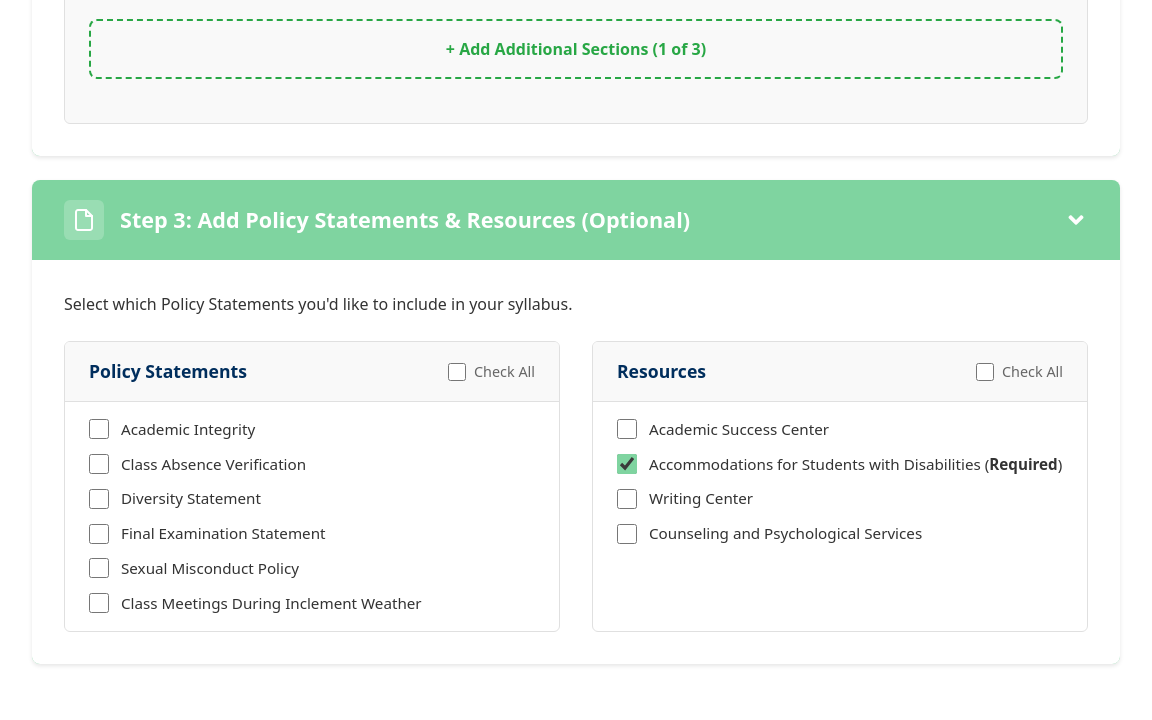
it: Checklist › Check All selects every policy statement
(page scrolled)
Click the checkbox named "Check all policy statements": [457, 372] box [448,362,466,380]
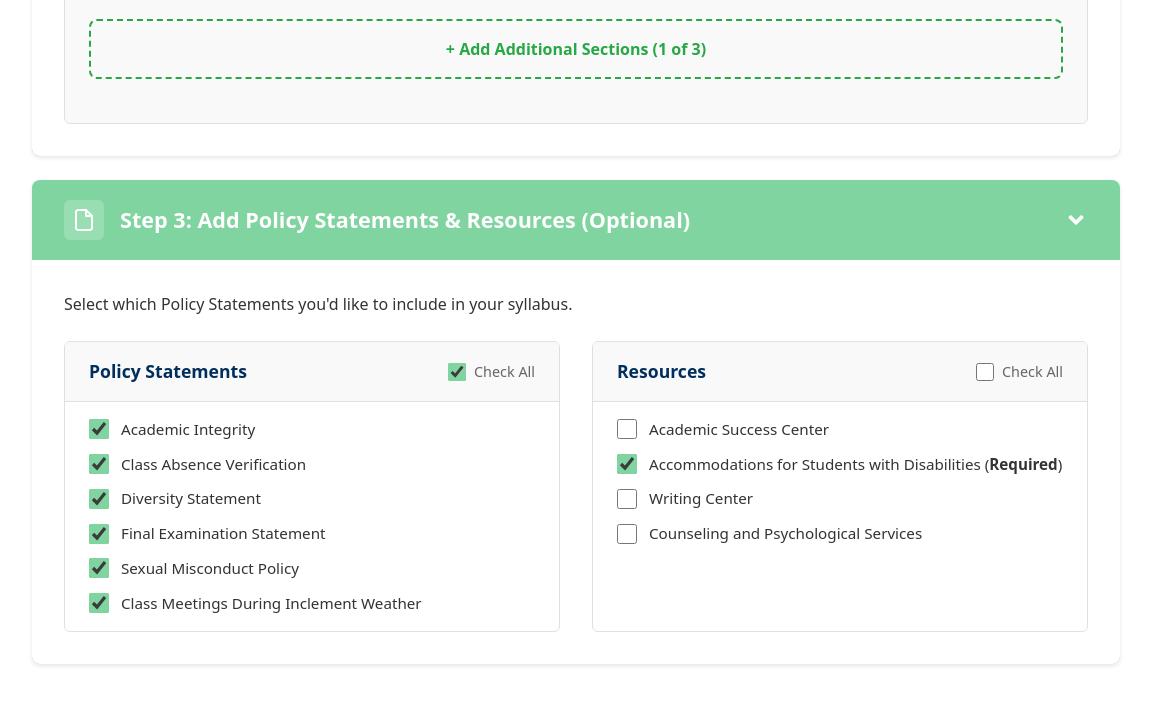
Now the checkbox showing "Academic Integrity" is checked, box [89,419,109,439]
Now the checkbox showing "Class Absence Verification" is checked, box [89,454,109,474]
Now the checkbox showing "Diversity Statement" is checked, box [89,489,109,509]
